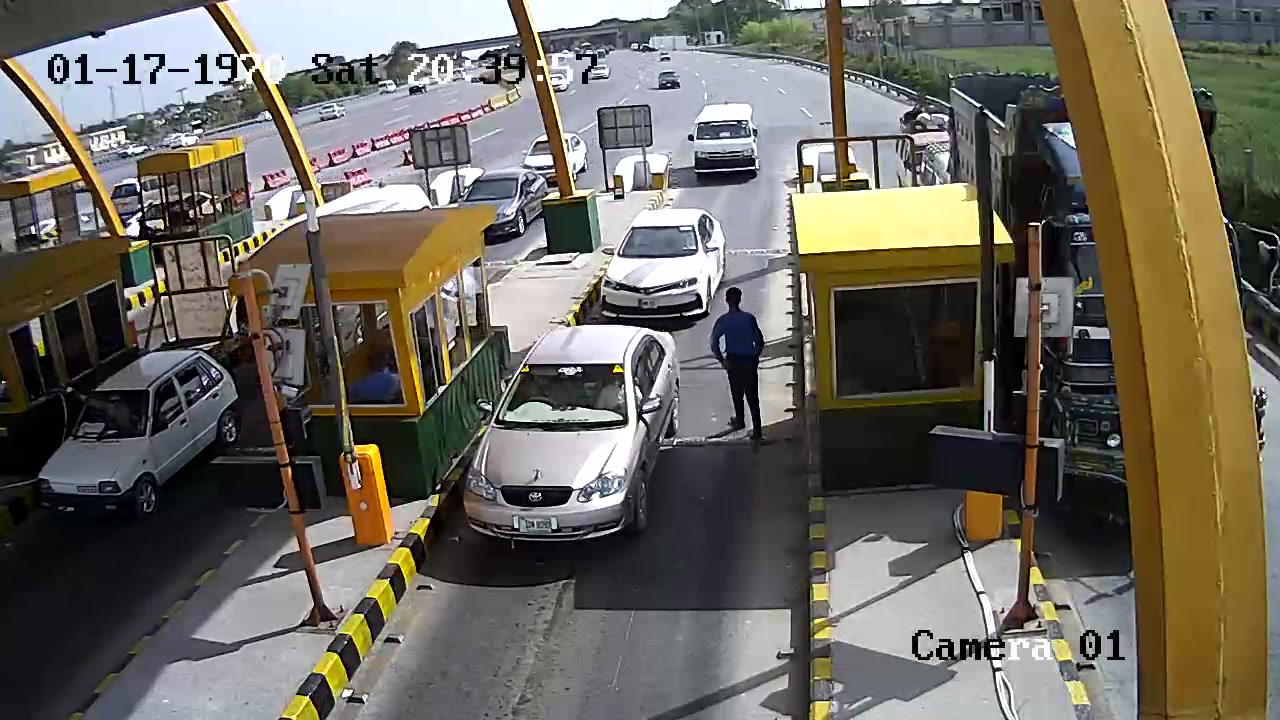F1: (454, 317, 701, 576), (574, 197, 728, 328)
